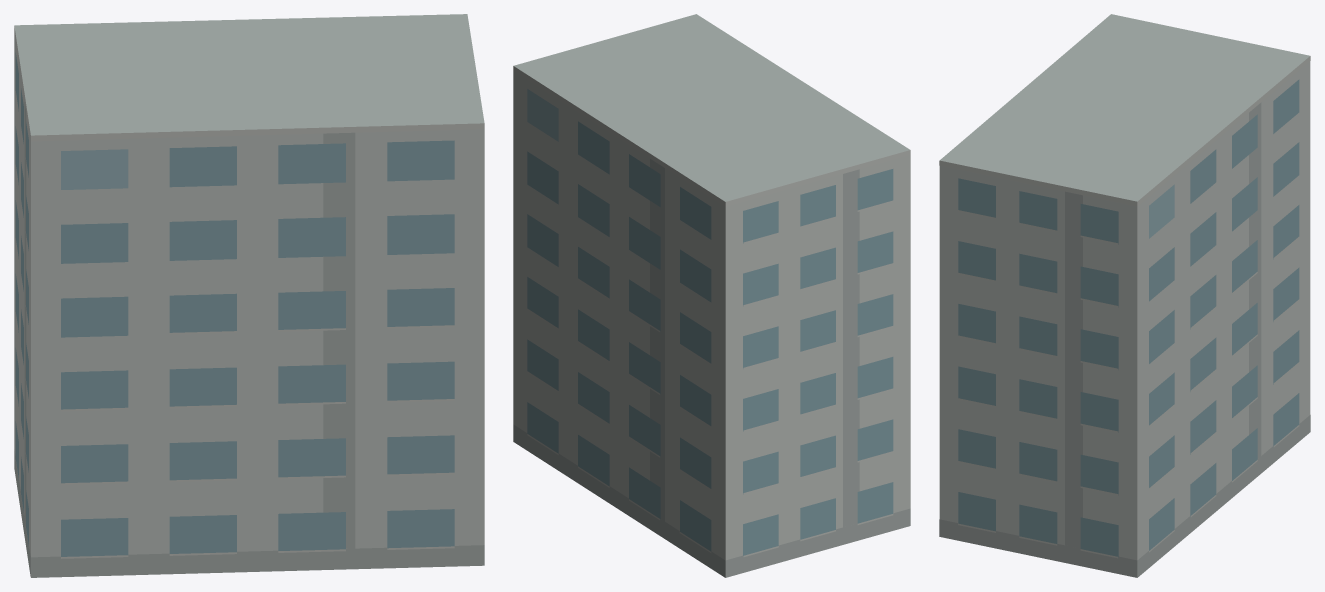
The model's file is survey-upis-32887581.glb.
3 views of the same model, side by side, from view 1: azimuth 30°, elevation 25°; view 2: azimuth 150°, elevation 25°; view 3: azimuth 270°, elevation 25° (orthographic). The views are drawn at different scales.
Parts seen in each view (by area): view 1: survey-upis-32887581.tmp; view 2: survey-upis-32887581.tmp; view 3: survey-upis-32887581.tmp.
Part boxes in pixels (x1,y1,x2,y2): survey-upis-32887581.tmp: (14, 14, 484, 577); survey-upis-32887581.tmp: (513, 14, 910, 577); survey-upis-32887581.tmp: (939, 14, 1310, 577).
Size of the model in its own units: 19.58 by 18.3 by 16.36.
